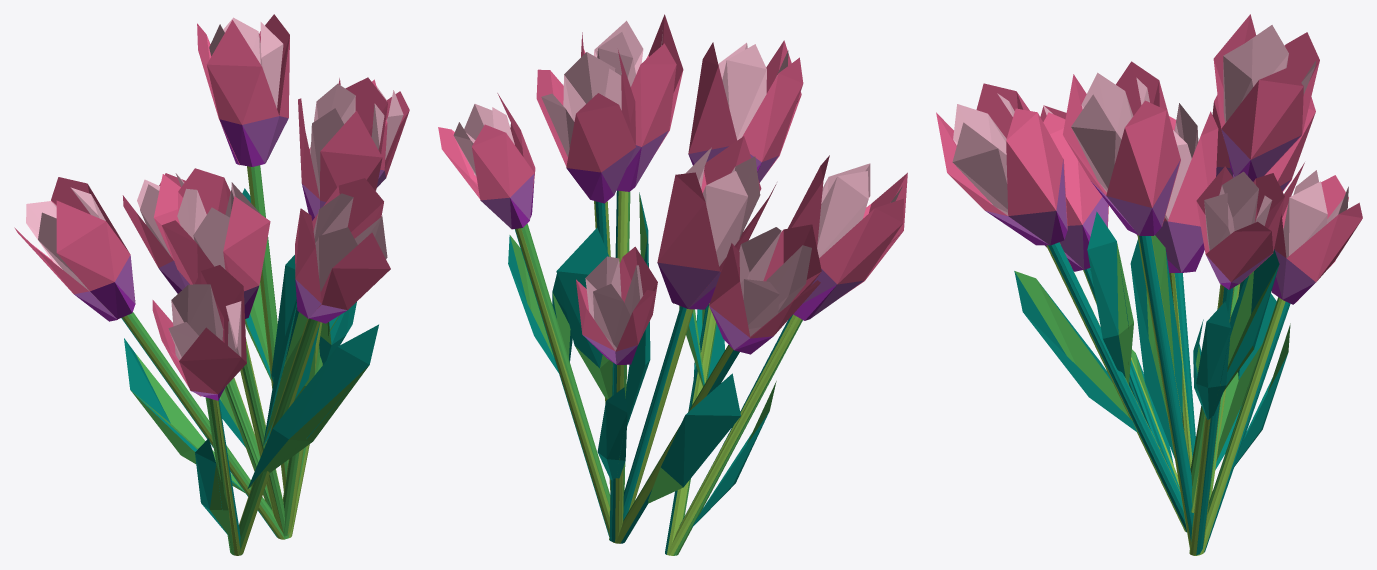
3 renders of one model, left to right at view 1: azimuth 30°, elevation 25°; view 2: azimuth 150°, elevation 25°; view 3: azimuth 270°, elevation 25°, orthographic. The views are drawn at different scales.
Visible parts, largest first — view 1: group_472026721, group_941805466, mesh_1513215620, mesh_201291130, mesh_64326919, mesh_1089069114, mesh_797648510, mesh_478565310, mesh_1869555222, mesh_1563464038, mesh_773970968, mesh_1653023134 (+32 smaller); view 2: group_472026721, group_1199946381, group_941805466, mesh_851135502, mesh_1662392388, mesh_797648510, mesh_1741665748, mesh_773970968, mesh_1524081558, mesh_2026508287, mesh_369730231, mesh_1587333848 (+32 smaller); view 3: group_941805466, group_472026721, group_1199946381, mesh_369730231, mesh_1513215620, mesh_1548443602, mesh_1160013864, mesh_605848671, mesh_1563464038, mesh_851135502, mesh_1336710718, mesh_1219209497 (+23 smaller).
Boxes of the visible parts, bbox=[...] form: group_472026721: bbox=[197, 14, 289, 166]; group_941805466: bbox=[298, 77, 387, 220]; mesh_1513215620: bbox=[247, 324, 378, 488]; mesh_201291130: bbox=[56, 200, 135, 319]; mesh_64326919: bbox=[309, 232, 390, 323]; mesh_1089069114: bbox=[223, 196, 270, 318]; mesh_797648510: bbox=[124, 338, 245, 493]; mesh_478565310: bbox=[121, 312, 287, 539]; mesh_1869555222: bbox=[179, 327, 246, 400]; mesh_1563464038: bbox=[238, 318, 320, 555]; mesh_773970968: bbox=[295, 208, 321, 318]; mesh_1653023134: bbox=[247, 165, 288, 491]; group_472026721: bbox=[536, 50, 635, 203]; group_1199946381: bbox=[438, 93, 535, 229]; group_941805466: bbox=[581, 14, 683, 191]; mesh_851135502: bbox=[657, 172, 719, 308]; mesh_1662392388: bbox=[793, 198, 903, 320]; mesh_797648510: bbox=[648, 373, 740, 503]; mesh_1741665748: bbox=[514, 223, 610, 536]; mesh_773970968: bbox=[742, 57, 803, 182]; mesh_1524081558: bbox=[556, 228, 612, 399]; mesh_2026508287: bbox=[668, 314, 802, 555]; mesh_369730231: bbox=[688, 42, 737, 165]; mesh_1587333848: bbox=[623, 306, 693, 519]; group_941805466: bbox=[1063, 61, 1180, 235]; group_472026721: bbox=[1213, 14, 1319, 181]; group_1199946381: bbox=[1196, 166, 1284, 289]; mesh_369730231: bbox=[1006, 108, 1067, 245]; mesh_1513215620: bbox=[1014, 271, 1161, 449]; mesh_1548443602: bbox=[1087, 211, 1133, 384]; mesh_1160013864: bbox=[1130, 235, 1182, 458]; mesh_605848671: bbox=[1137, 235, 1193, 548]; mesh_1563464038: bbox=[1046, 242, 1186, 532]; mesh_851135502: bbox=[1167, 111, 1218, 272]; mesh_1336710718: bbox=[1043, 112, 1108, 269]; mesh_1219209497: bbox=[1282, 202, 1362, 304].
Bounding box in the file's own units: 97.08 × 125 × 91.18.
